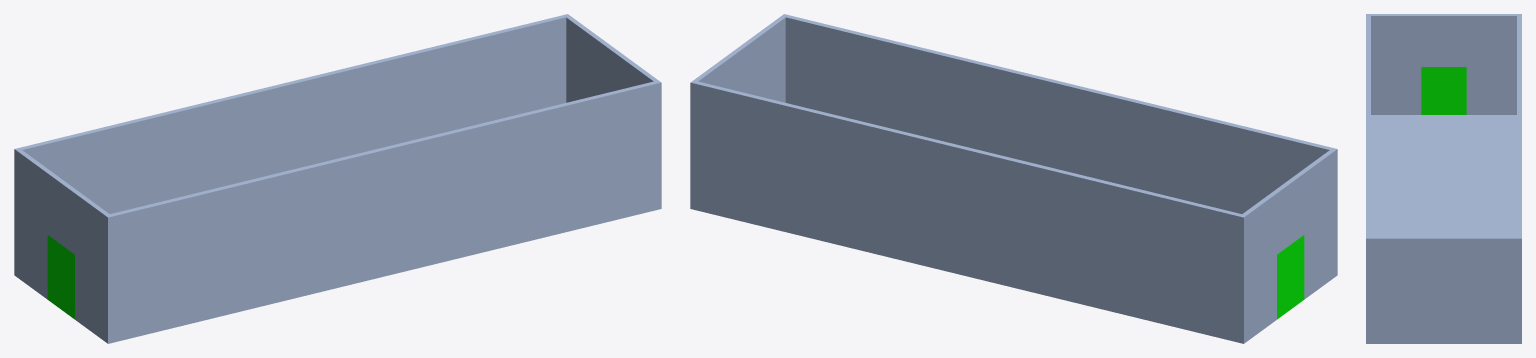
File: Warehouse_expansion.glb
3 views of the same model, side by side, from view 1: azimuth 30°, elevation 25°; view 2: azimuth 150°, elevation 25°; view 3: azimuth 270°, elevation 25° (orthographic). The views are drawn at different scales.
Visible parts, largest first — view 1: Floor1; view 2: Floor1; view 3: Floor1.
Part boxes in pixels (bbox=[...]): Floor1: bbox=[14, 14, 661, 343]; Floor1: bbox=[690, 14, 1337, 343]; Floor1: bbox=[1366, 14, 1521, 343].
Size of the model in its own units: 32.08 by 7 by 9.41.
